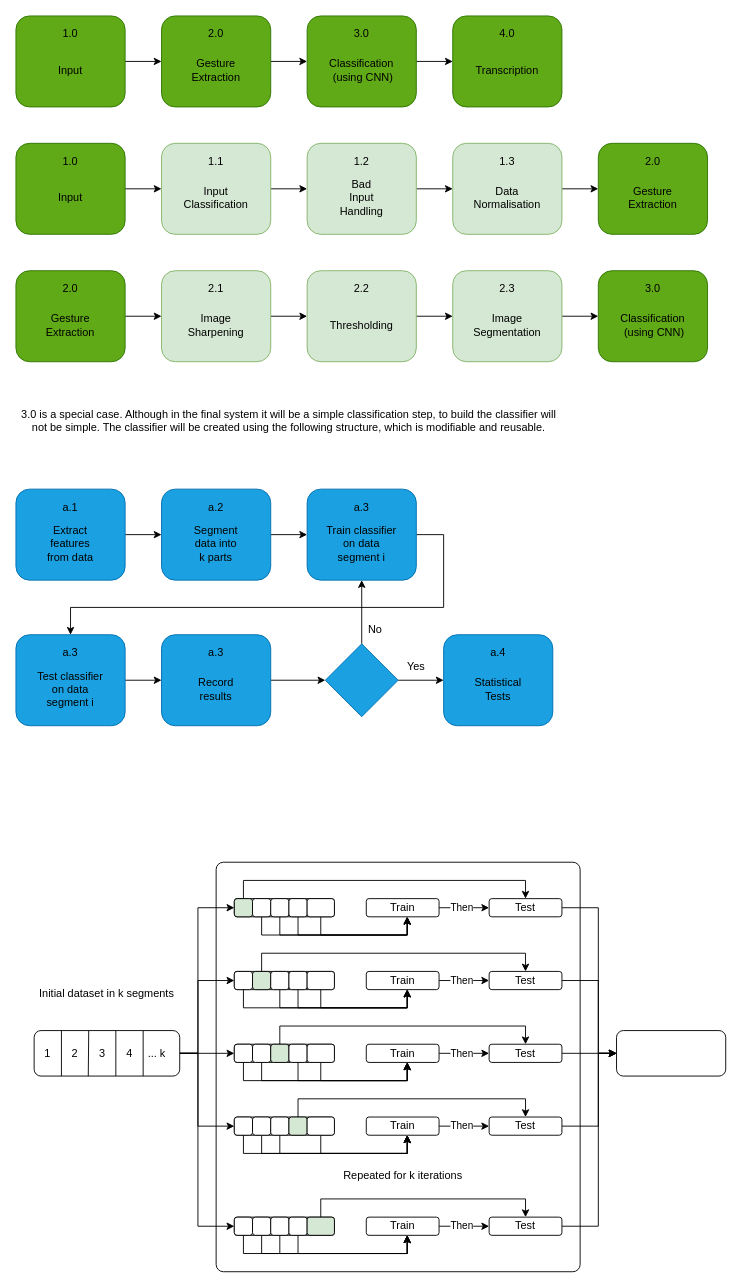
Image size: 742x1288. Some labels were removed from this diagram. The shapes that lost their labels are listed below. From the top down, each one's centre as x and y in pixels, then its label:
the point at 361,680: if i == k
the point at 671,1053: Evaluation
